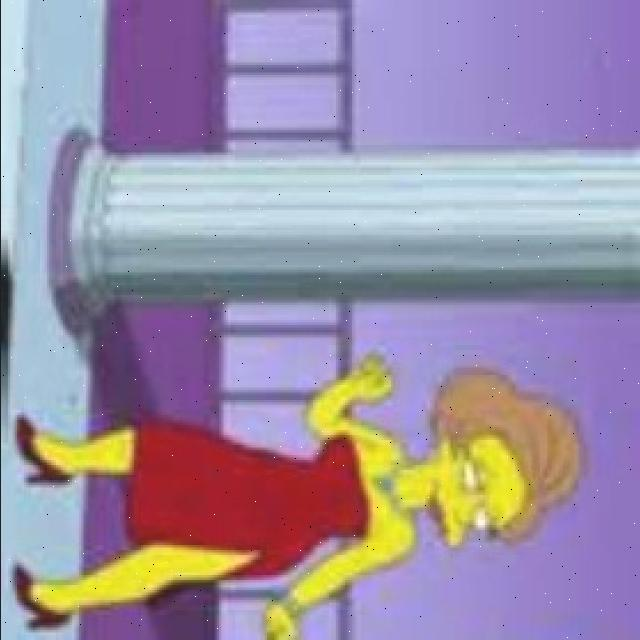Edna Krappel: (394, 361, 588, 559)
